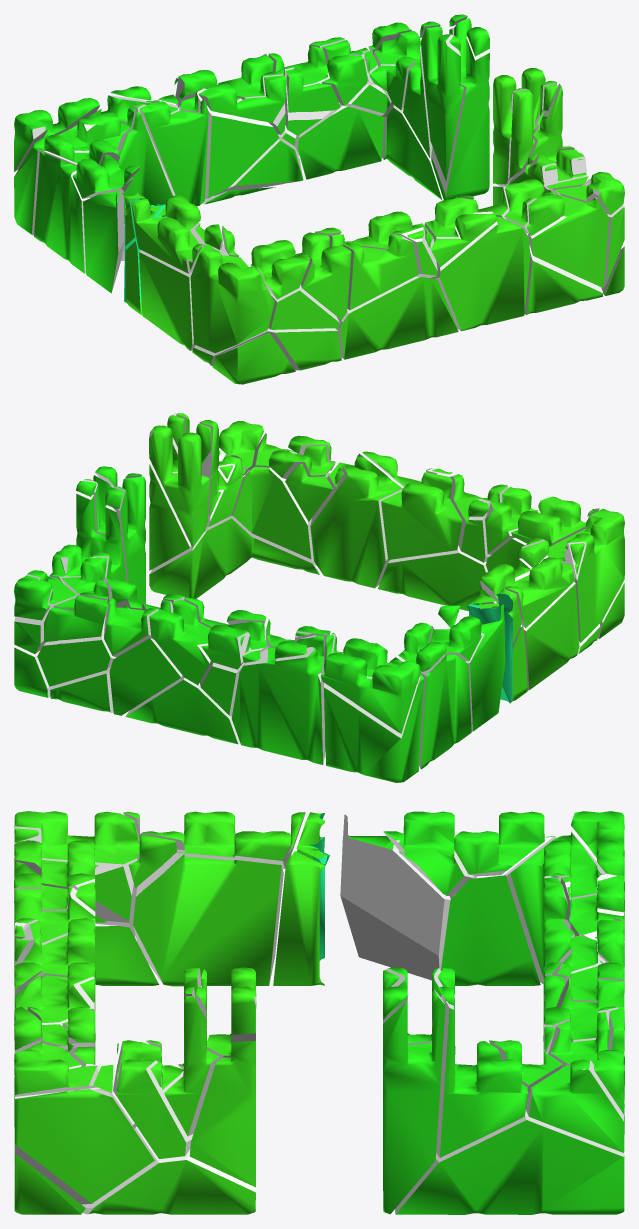
Rendered from Structure_Tower_Knight_Human_03_debris_cells_external_walls.fbx.
The picture shows the model from 3 angles, top to bottom: view 1: azimuth 30°, elevation 25°; view 2: azimuth 150°, elevation 25°; view 3: azimuth 270°, elevation 25°; orthographic projection. The views are drawn at different scales.
Parts seen in each view (by area): view 1: Structure_Tower_Knight_Human_03.011_cell.048, Structure_Tower_Knight_Human_03.011_cell.055, Structure_Tower_Knight_Human_03.011_cell.051, Structure_Tower_Knight_Human_03.011_cell.002, Structure_Tower_Knight_Human_03.011_cell.014, Structure_Tower_Knight_Human_03.011_cell.057, Structure_Tower_Knight_Human_03.011_cell.011, Structure_Tower_Knight_Human_03.011_cell.004, Structure_Tower_Knight_Human_03.011_cell.008, Structure_Tower_Knight_Human_03.011_cell.025, Structure_Tower_Knight_Human_03.011_cell, Structure_Tower_Knight_Human_03.011_cell.044 (+40 smaller); view 2: Structure_Tower_Knight_Human_03.011_cell.064, Structure_Tower_Knight_Human_03.011_cell.048, Structure_Tower_Knight_Human_03.011_cell.044, Structure_Tower_Knight_Human_03.011_cell.061, Structure_Tower_Knight_Human_03.011_cell.055, Structure_Tower_Knight_Human_03.011_cell.023, Structure_Tower_Knight_Human_03.011_cell.007, Structure_Tower_Knight_Human_03.011_cell.039, Structure_Tower_Knight_Human_03.011_cell.051, Structure_Tower_Knight_Human_03.011_cell.072, Structure_Tower_Knight_Human_03.011_cell.004, Structure_Tower_Knight_Human_03.011_cell (+41 smaller); view 3: Structure_Tower_Knight_Human_03.011_cell, Structure_Tower_Knight_Human_03.011_cell.060, Structure_Tower_Knight_Human_03.011_cell.063, Structure_Tower_Knight_Human_03.011_cell.001, Structure_Tower_Knight_Human_03.011_cell.002, Structure_Tower_Knight_Human_03.011_cell.078, Structure_Tower_Knight_Human_03.011_cell.012, Structure_Tower_Knight_Human_03.011_cell.061, Structure_Tower_Knight_Human_03.011_cell.071, Structure_Tower_Knight_Human_03.011_cell.055, Structure_Tower_Knight_Human_03.011_cell.059, Structure_Tower_Knight_Human_03.011_cell.017 (+38 smaller).
Boxes of the visible parts, bbox=[...] form: Structure_Tower_Knight_Human_03.011_cell.048: bbox=[424, 197, 530, 331]; Structure_Tower_Knight_Human_03.011_cell.055: bbox=[190, 244, 274, 353]; Structure_Tower_Knight_Human_03.011_cell.051: bbox=[335, 276, 458, 359]; Structure_Tower_Knight_Human_03.011_cell.002: bbox=[431, 18, 489, 199]; Structure_Tower_Knight_Human_03.011_cell.014: bbox=[139, 99, 208, 206]; Structure_Tower_Knight_Human_03.011_cell.057: bbox=[527, 194, 608, 288]; Structure_Tower_Knight_Human_03.011_cell.011: bbox=[297, 106, 384, 179]; Structure_Tower_Knight_Human_03.011_cell.004: bbox=[34, 152, 90, 273]; Structure_Tower_Knight_Human_03.011_cell.008: bbox=[179, 88, 279, 199]; Structure_Tower_Knight_Human_03.011_cell.025: bbox=[420, 26, 463, 181]; Structure_Tower_Knight_Human_03.011_cell: bbox=[139, 222, 227, 350]; Structure_Tower_Knight_Human_03.011_cell.044: bbox=[14, 107, 136, 235]; Structure_Tower_Knight_Human_03.011_cell.064: bbox=[231, 635, 325, 764]; Structure_Tower_Knight_Human_03.011_cell.048: bbox=[310, 454, 402, 588]; Structure_Tower_Knight_Human_03.011_cell.044: bbox=[324, 635, 423, 782]; Structure_Tower_Knight_Human_03.011_cell.061: bbox=[149, 518, 319, 598]; Structure_Tower_Knight_Human_03.011_cell.055: bbox=[547, 508, 624, 642]; Structure_Tower_Knight_Human_03.011_cell.023: bbox=[381, 472, 462, 559]; Structure_Tower_Knight_Human_03.011_cell.007: bbox=[228, 466, 316, 565]; Structure_Tower_Knight_Human_03.011_cell.039: bbox=[149, 423, 211, 547]; Structure_Tower_Knight_Human_03.011_cell.051: bbox=[378, 545, 487, 611]; Structure_Tower_Knight_Human_03.011_cell.072: bbox=[320, 653, 420, 733]; Structure_Tower_Knight_Human_03.011_cell.004: bbox=[419, 654, 471, 769]; Structure_Tower_Knight_Human_03.011_cell: bbox=[483, 555, 579, 690]; Structure_Tower_Knight_Human_03.011_cell: bbox=[133, 853, 283, 986]; Structure_Tower_Knight_Human_03.011_cell.060: bbox=[395, 1110, 624, 1214]; Structure_Tower_Knight_Human_03.011_cell.063: bbox=[340, 814, 450, 980]; Structure_Tower_Knight_Human_03.011_cell.001: bbox=[15, 1089, 154, 1204]; Structure_Tower_Knight_Human_03.011_cell.002: bbox=[383, 989, 445, 1214]; Structure_Tower_Knight_Human_03.011_cell.078: bbox=[441, 875, 540, 985]; Structure_Tower_Knight_Human_03.011_cell.012: bbox=[436, 994, 528, 1157]; Structure_Tower_Knight_Human_03.011_cell.061: bbox=[82, 1123, 255, 1214]; Structure_Tower_Knight_Human_03.011_cell.071: bbox=[189, 1040, 255, 1187]; Structure_Tower_Knight_Human_03.011_cell.055: bbox=[14, 811, 139, 937]; Structure_Tower_Knight_Human_03.011_cell.059: bbox=[273, 813, 329, 985]; Structure_Tower_Knight_Human_03.011_cell.017: bbox=[526, 1059, 624, 1152].
Bounding box in the file's own units: 912 × 360 × 912.
